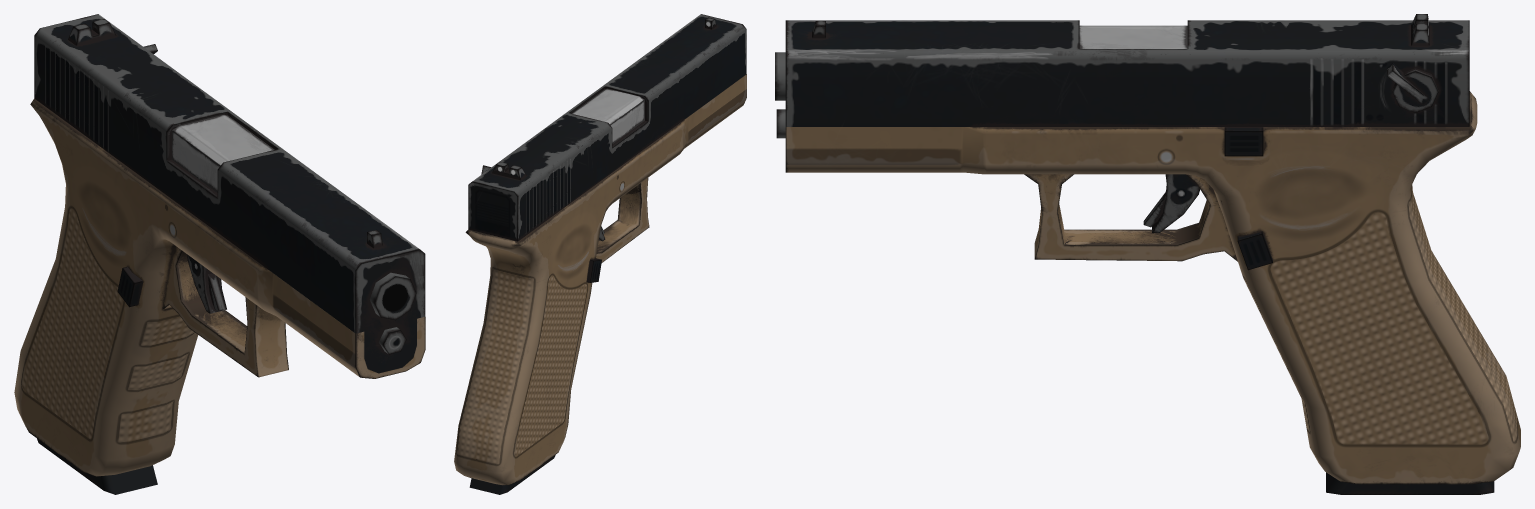
The model's file is Glock-18.fbx.
The picture shows the model from 3 angles, left to right: view 1: azimuth 30°, elevation 25°; view 2: azimuth 150°, elevation 25°; view 3: azimuth 270°, elevation 25°; orthographic projection. The views are drawn at different scales.
Visible parts, largest first — view 1: Glock-18; view 2: Glock-18; view 3: Glock-18.
Boxes of the visible parts, <box> form: Glock-18: <box>14,14,425,494</box>; Glock-18: <box>454,14,746,494</box>; Glock-18: <box>775,14,1520,494</box>.
Bounding box in the file's own units: 34.62 × 152 × 223.
